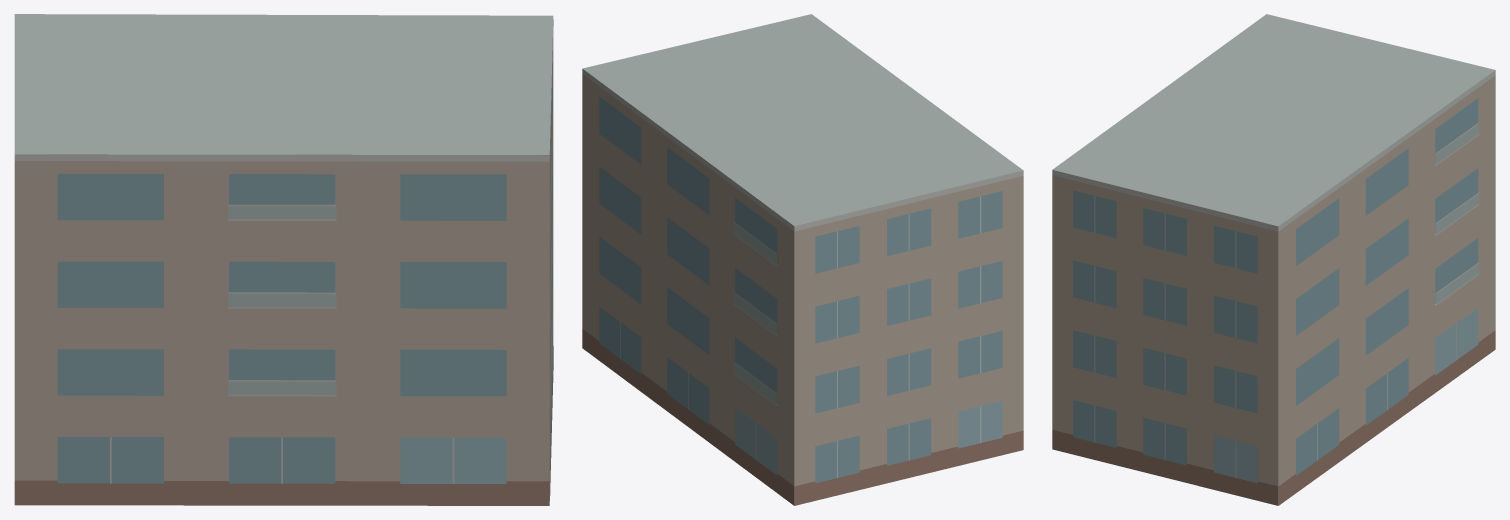
File: survey-upis-32722114.glb
The picture shows the model from 3 angles, left to right: view 1: azimuth 30°, elevation 25°; view 2: azimuth 150°, elevation 25°; view 3: azimuth 270°, elevation 25°; orthographic projection. The views are drawn at different scales.
Visible parts, largest first — view 1: survey-upis-32722114.tmp; view 2: survey-upis-32722114.tmp; view 3: survey-upis-32722114.tmp.
Part boxes in pixels (x1=…): survey-upis-32722114.tmp: x1=14, y1=14, x2=553, y2=505; survey-upis-32722114.tmp: x1=582, y1=14, x2=1023, y2=505; survey-upis-32722114.tmp: x1=1052, y1=14, x2=1495, y2=505.
Size of the model in its own units: 20.86 by 12.8 by 18.41.
